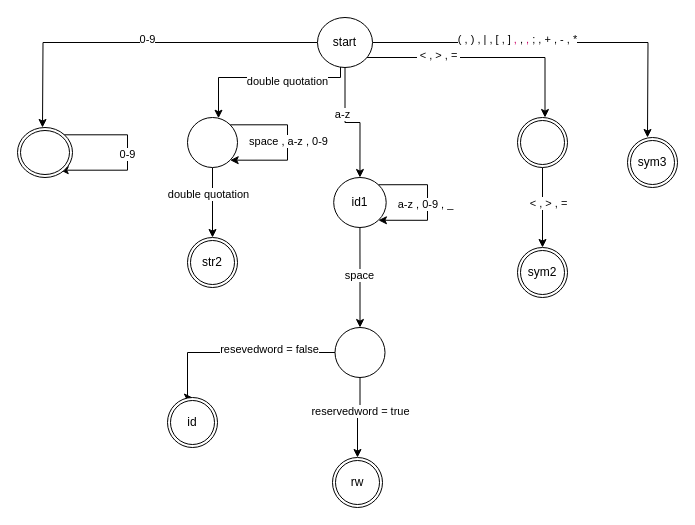
This 695x525 diagram has some shape labels left out. Here are the shapes that lost their labels. From the top down, the centre of each, then its label:
At point 44,152: "num1".
At point 212,142: "str1".
At point 542,142: "sym1".
At point 359,352: "check word".
